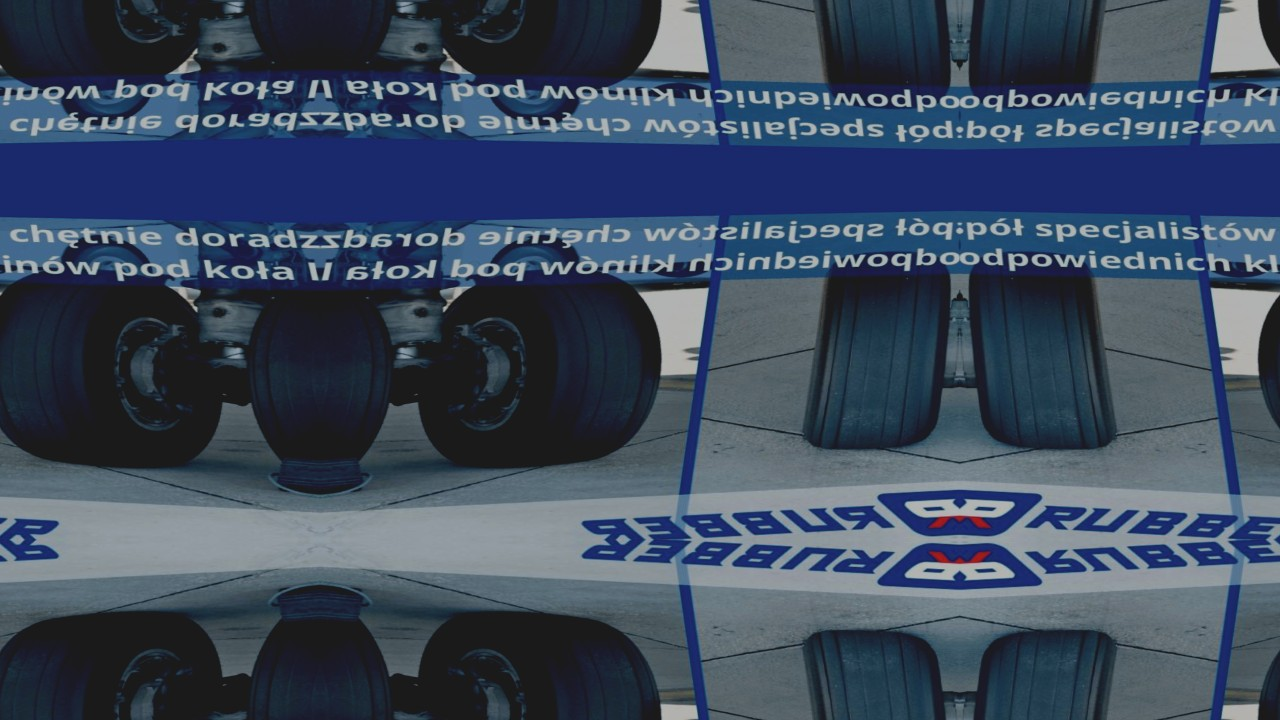chock: (266, 454, 320, 502), (320, 454, 374, 502), (266, 578, 320, 626), (320, 578, 374, 626)
wheel: (389, 268, 692, 473), (0, 268, 251, 473), (782, 248, 960, 453), (960, 248, 1138, 453), (389, 607, 692, 720), (0, 607, 251, 720), (389, 0, 692, 92), (209, 280, 320, 499), (320, 280, 431, 499), (0, 0, 251, 92), (782, 0, 960, 112), (960, 0, 1138, 112), (782, 627, 960, 720), (960, 627, 1138, 720), (209, 581, 320, 720), (320, 581, 431, 720), (1228, 268, 1280, 473), (209, 0, 320, 80), (320, 0, 431, 80), (51, 77, 161, 124), (479, 77, 589, 124), (51, 236, 161, 283), (479, 236, 589, 283)
